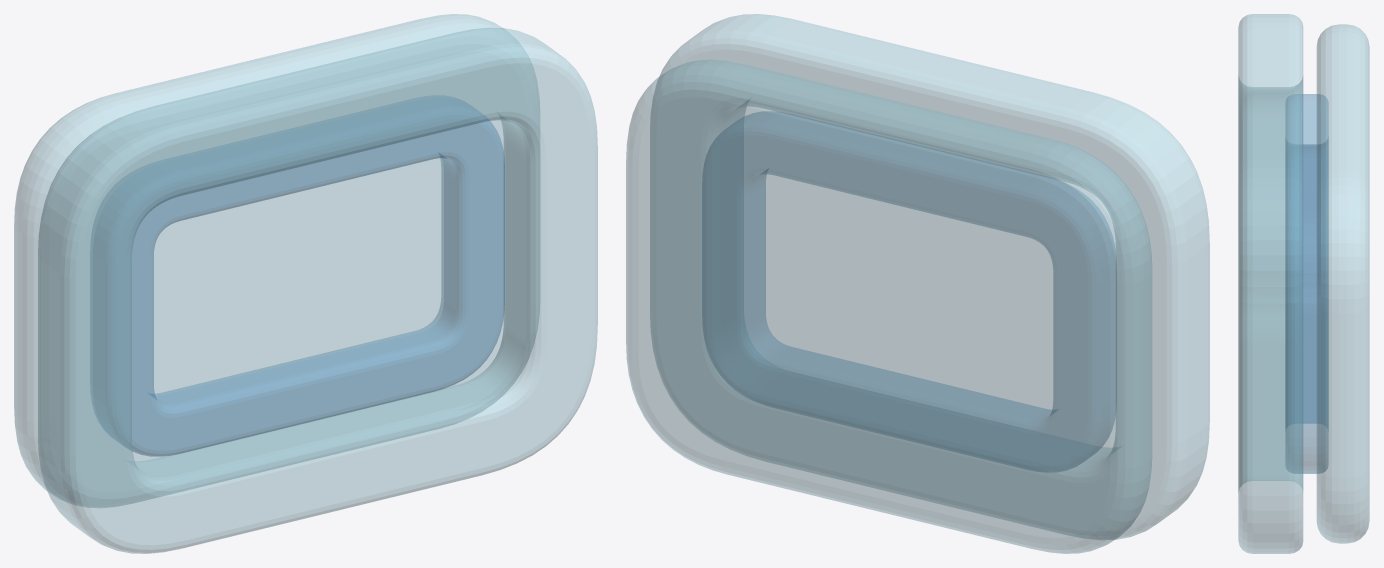
3 renders of one model, left to right at view 1: azimuth 30°, elevation 25°; view 2: azimuth 150°, elevation 25°; view 3: azimuth 270°, elevation 25°, orthographic. The views are drawn at different scales.
Parts seen in each view (by area): view 1: well-bottom, outer-lip, inner-lip; view 2: well-bottom, outer-lip, inner-lip; view 3: outer-lip, well-bottom, inner-lip.
Boxes of the visible parts, box(x1,y1,x2,y2) form: well-bottom: box(14, 14, 539, 507); outer-lip: box(38, 28, 597, 553); inner-lip: box(92, 97, 504, 456); well-bottom: box(626, 60, 1151, 553); outer-lip: box(650, 14, 1209, 539); inner-lip: box(702, 111, 1115, 472); outer-lip: box(1238, 14, 1303, 553); well-bottom: box(1317, 24, 1369, 543); inner-lip: box(1285, 94, 1328, 473).
Bounding box in the file's own units: 2.29 × 1.74 × 0.545.
